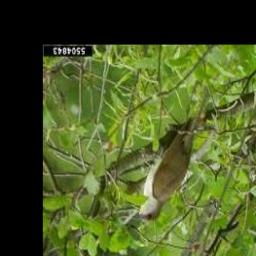Cuckoo: (135, 87, 209, 221)
